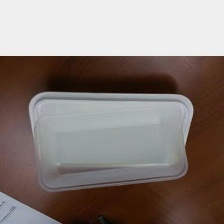plastic_box: (21, 83, 199, 198)
